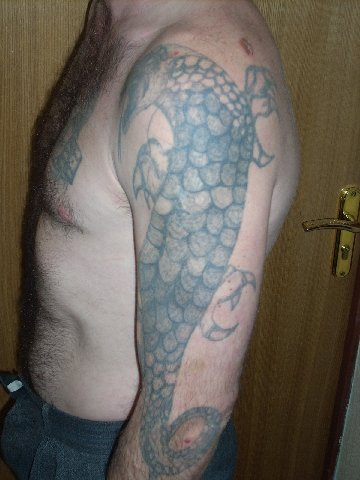tatu6_drakon: (124, 40, 280, 480)
